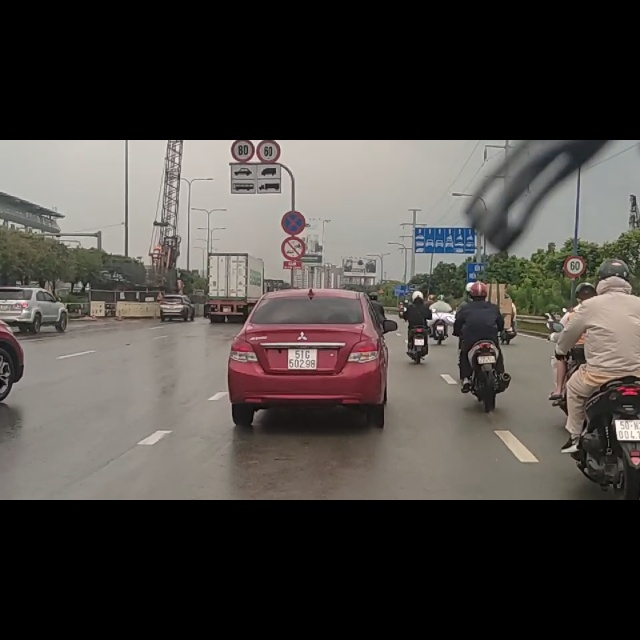bien_cam: (281, 125, 306, 168), (281, 171, 306, 212), (257, 1, 281, 41), (231, 0, 255, 40)
